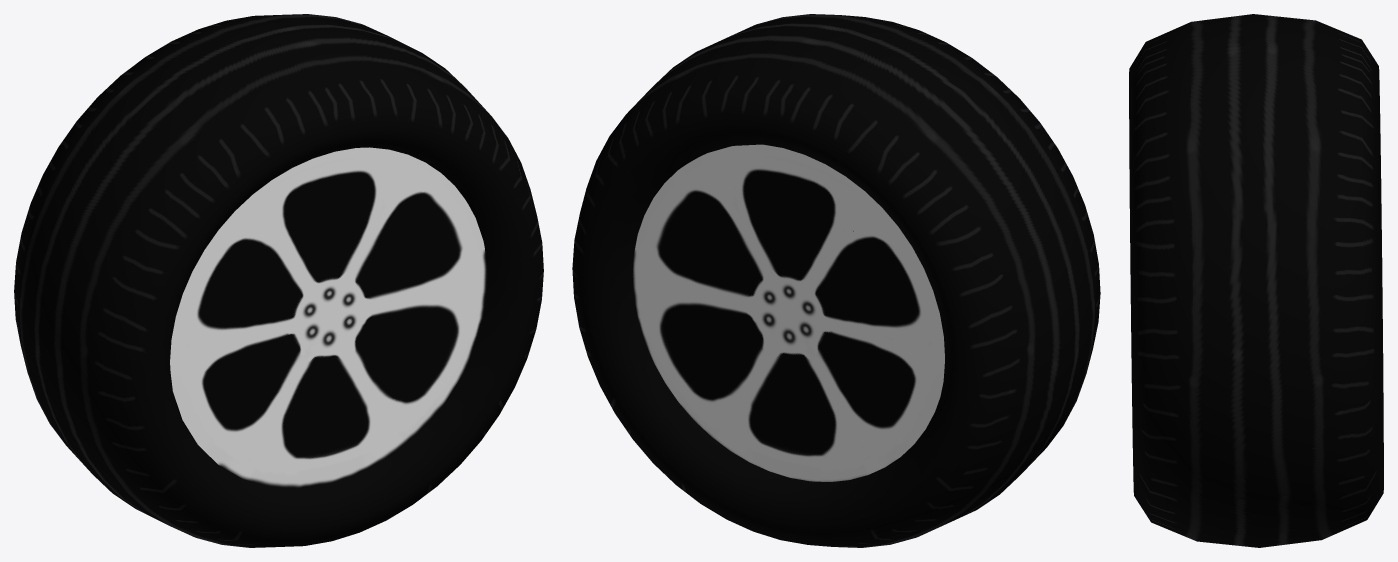
Rendered from wheel.fbx.
3 renders of one model, left to right at view 1: azimuth 30°, elevation 25°; view 2: azimuth 150°, elevation 25°; view 3: azimuth 270°, elevation 25°, orthographic.
Visible parts, largest first — view 1: Cylinder; view 2: Cylinder; view 3: Cylinder.
Part boxes in pixels (left/top/right/bottom): Cylinder: left=14, top=14, right=543, bottom=547; Cylinder: left=572, top=14, right=1100, bottom=547; Cylinder: left=1129, top=14, right=1383, bottom=547.
Size of the model in its own units: 331 by 331 by 158.
Materials: 2 (2 with a texture image).
